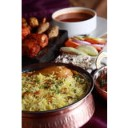briyani: (24, 65, 84, 110)
